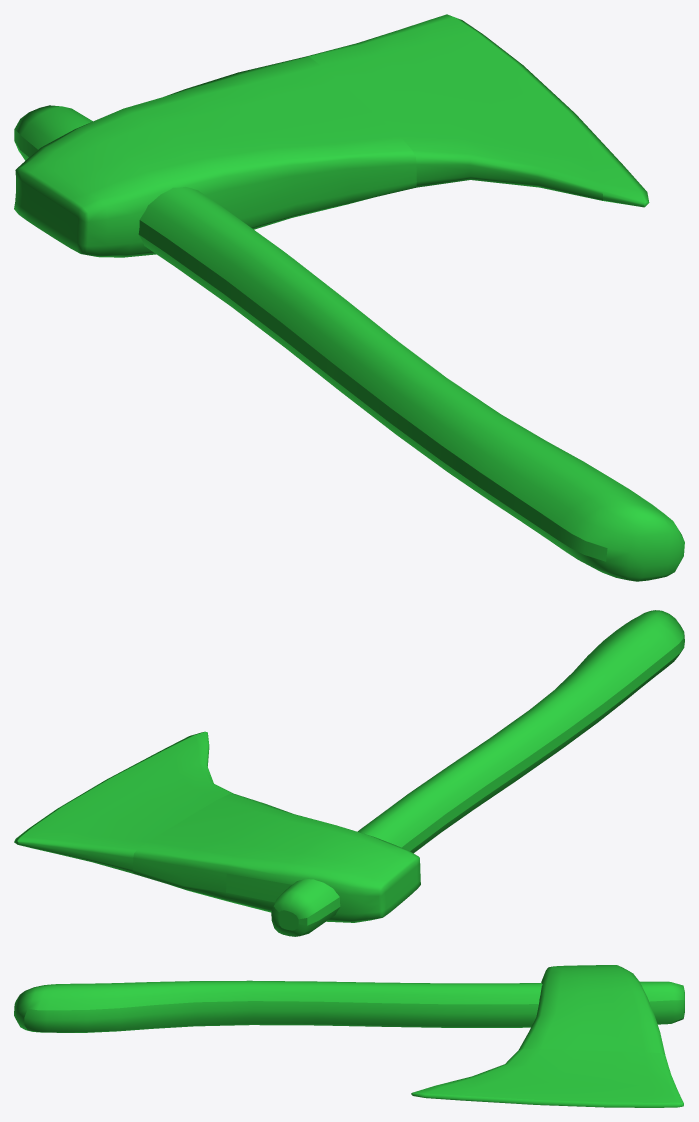
File: SM_ThrowingAxe.fbx
The picture shows the model from 3 angles, top to bottom: view 1: azimuth 30°, elevation 25°; view 2: azimuth 150°, elevation 25°; view 3: azimuth 270°, elevation 25°; orthographic projection. The views are drawn at different scales.
Visible parts, largest first — view 1: Axehead_low; view 2: Axehead_low; view 3: Axehead_low.
Part boxes in pixels (left/top/right/bottom): Axehead_low: left=14, top=14, right=684, bottom=581; Axehead_low: left=14, top=610, right=684, bottom=936; Axehead_low: left=14, top=965, right=684, bottom=1107.
Size of the model in its own units: 8.24 by 1.23 by 16.97.
